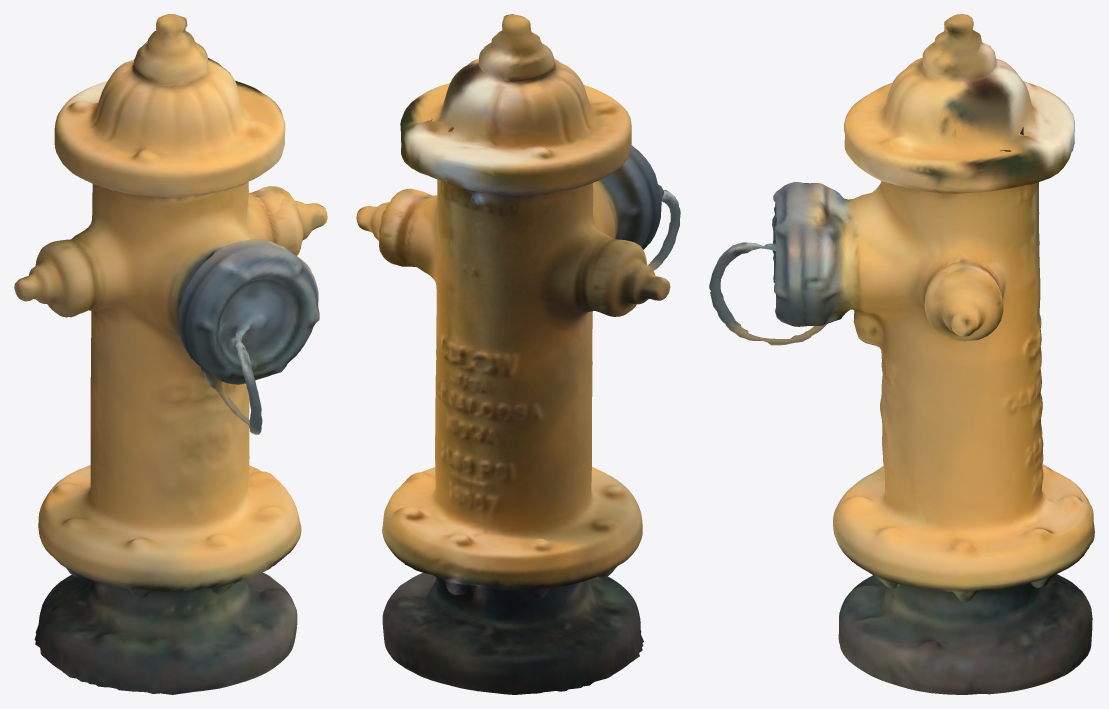
File: FireHydrant.glb
3 views of the same model, side by side, from view 1: azimuth 30°, elevation 25°; view 2: azimuth 150°, elevation 25°; view 3: azimuth 270°, elevation 25° (orthographic).
Parts seen in each view (by area): view 1: hydrant; view 2: hydrant; view 3: hydrant.
Part boxes in pixels (x1,y1,x2,y2): hydrant: [14, 14, 327, 694]; hydrant: [356, 14, 680, 694]; hydrant: [709, 14, 1094, 694].
Size of the model in its own units: 0.4873 by 0.943 by 0.5279.
1 material, 1 textured.
